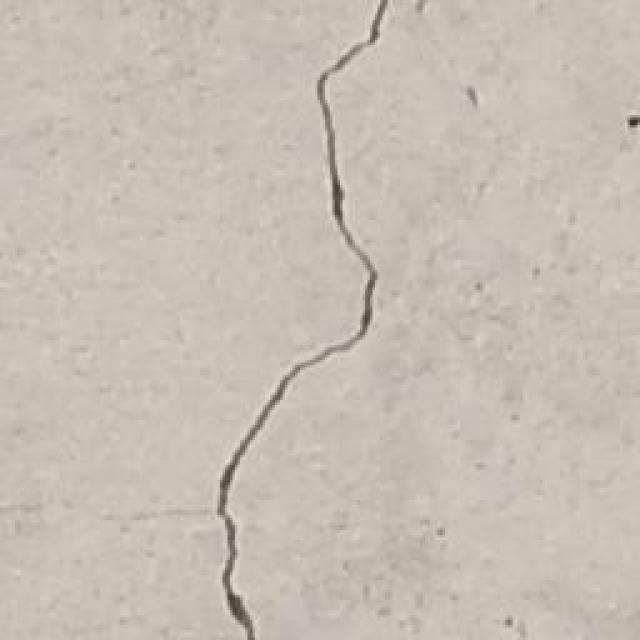concrete-crack: (218, 0, 390, 640)
